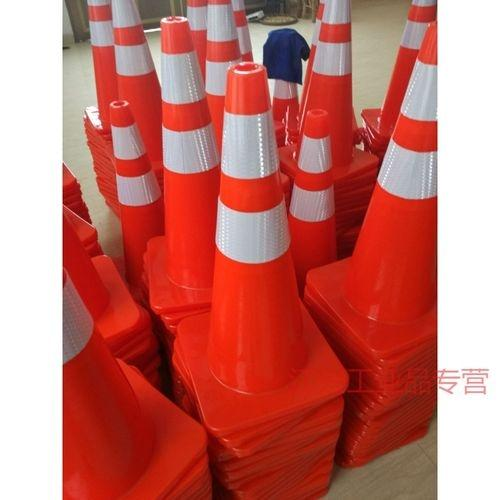cone_barrel: (196, 60, 318, 412), (344, 8, 437, 325), (62, 264, 152, 499), (150, 16, 218, 292), (291, 3, 360, 172), (106, 99, 163, 285), (282, 105, 339, 287), (102, 0, 164, 141), (197, 0, 251, 105), (260, 23, 308, 139)
